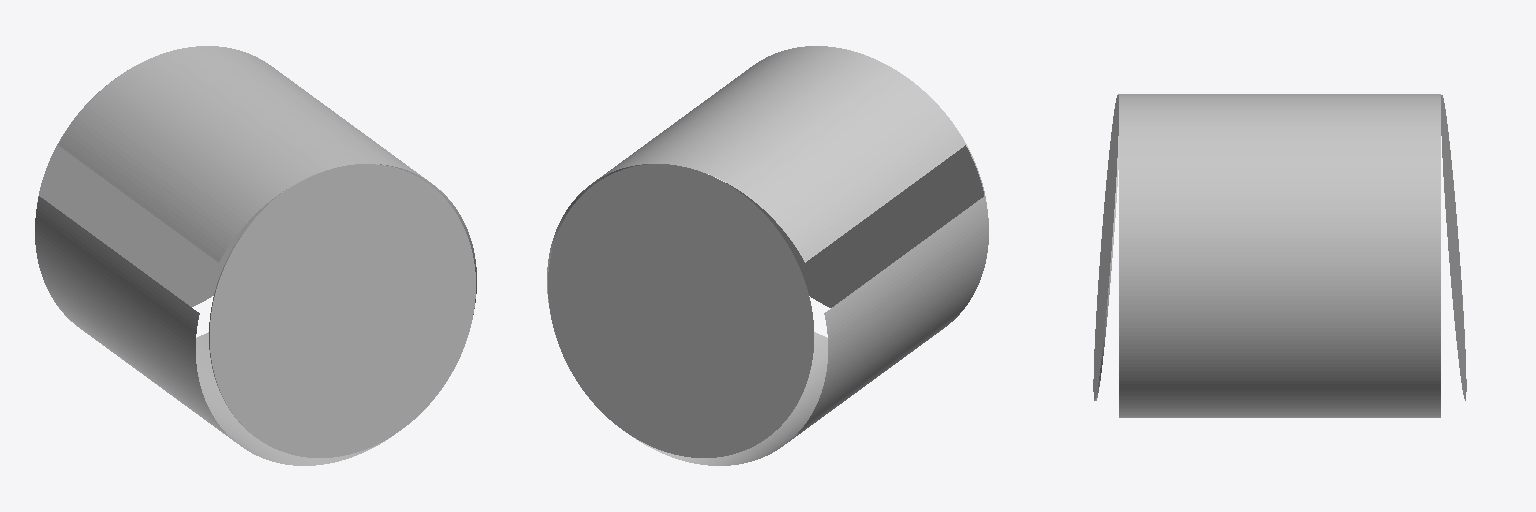
The model's file is plane bend86.obj.
3 views of the same model, side by side, from view 1: azimuth 30°, elevation 25°; view 2: azimuth 150°, elevation 25°; view 3: azimuth 270°, elevation 25° (orthographic).
Parts seen in each view (by area): view 1: Circle, Plane, Circle.001; view 2: Circle.001, Plane, Circle; view 3: Plane, Circle, Circle.001.
Part boxes in pixels (left/top/right/bottom): Circle: left=209, top=164, right=475, bottom=457; Plane: left=35, top=46, right=476, bottom=465; Circle.001: left=37, top=70, right=286, bottom=306; Circle.001: left=548, top=164, right=813, bottom=457; Plane: left=547, top=46, right=988, bottom=465; Circle: left=726, top=49, right=986, bottom=307; Plane: left=1119, top=94, right=1440, bottom=417; Circle: left=1093, top=94, right=1118, bottom=400; Circle.001: left=1441, top=95, right=1466, bottom=400.
Bounding box in the file's own units: 2.02 × 2.02 × 2.32.